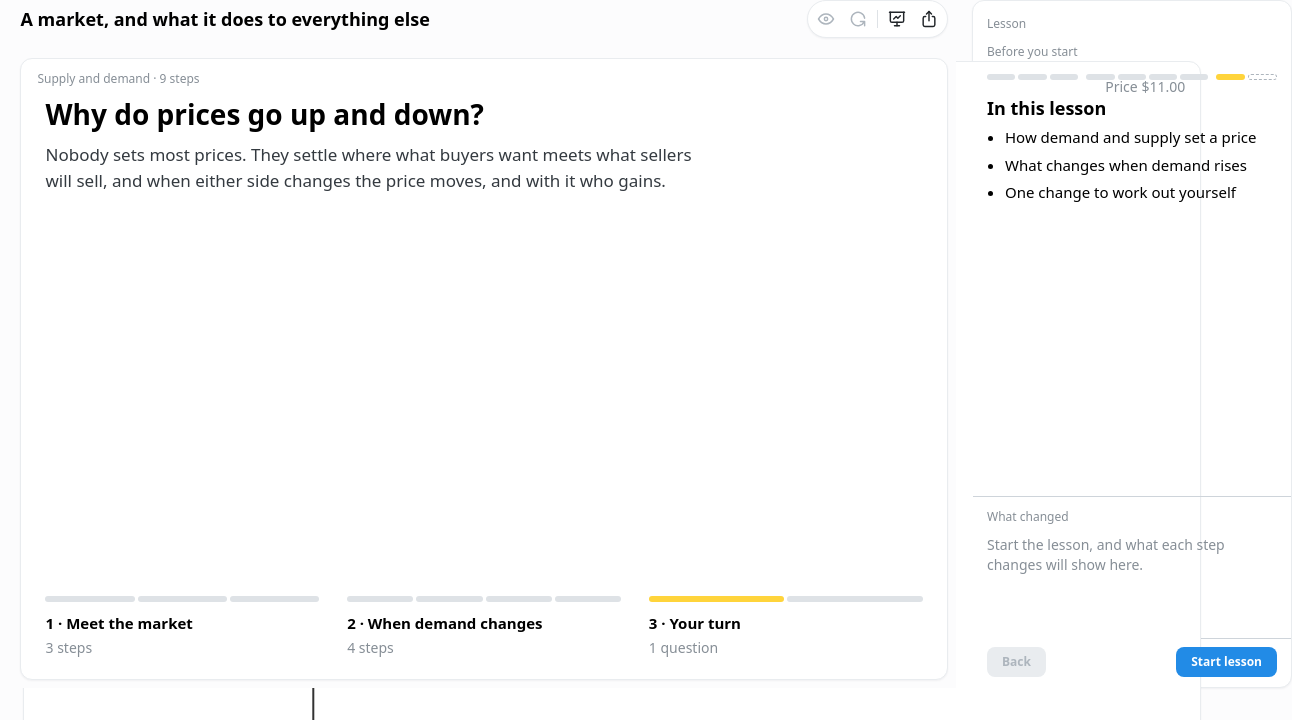
Scenario: the keyboard answers the question › commits from the control itself
Click the button named "Step 8 of 9: Incomes rise again": (1231, 77) [1216, 67, 1245, 87]
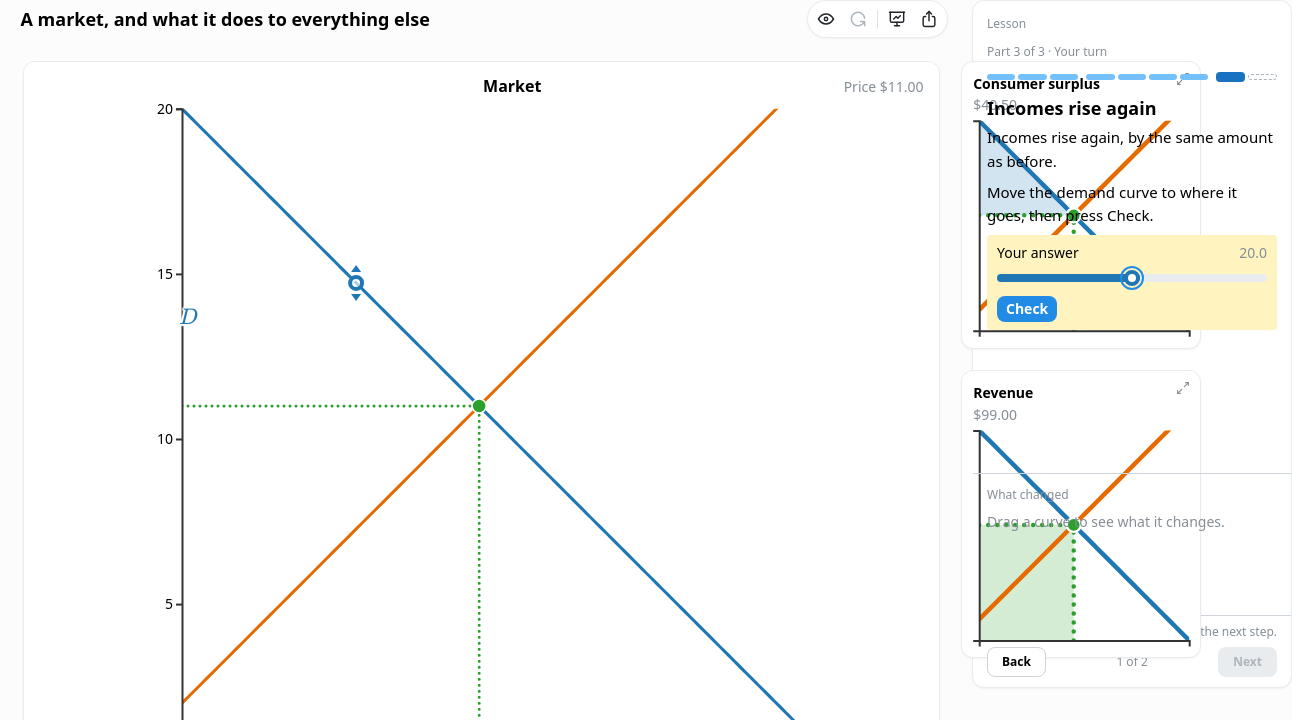
Press End in the slider named "Your answer", box [1124, 270, 1140, 286]
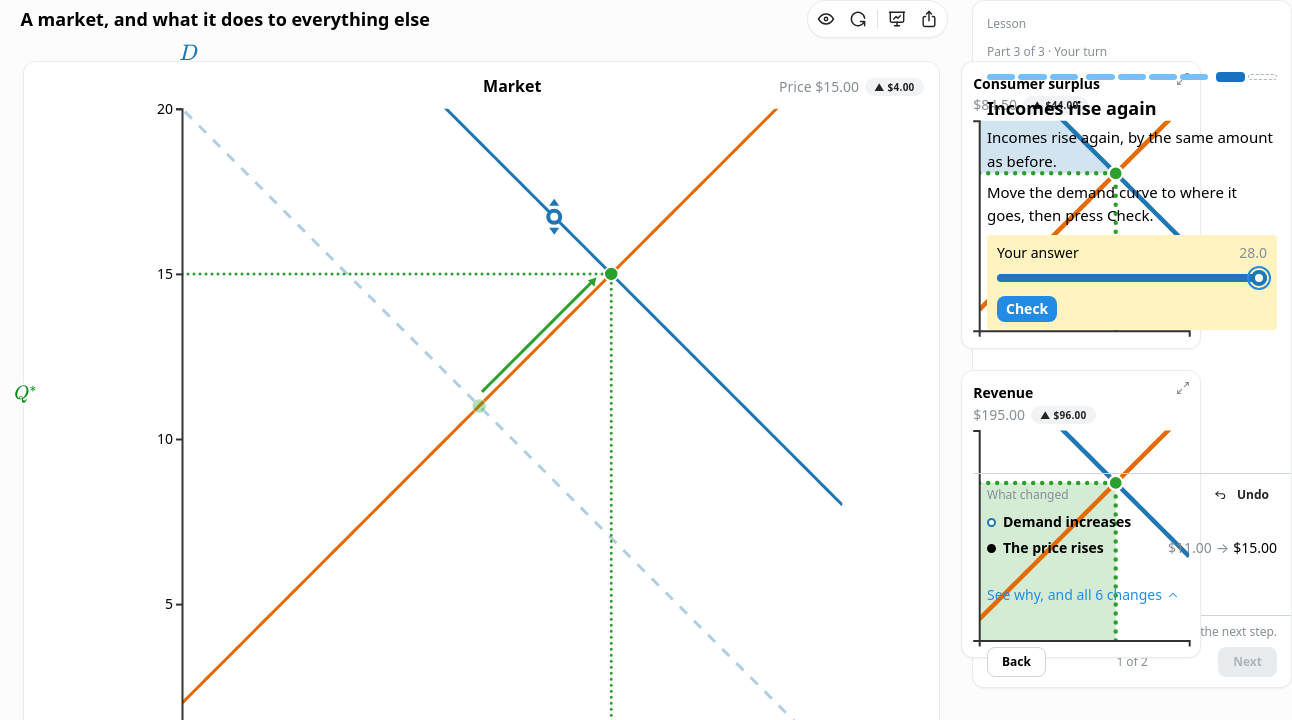
Press Enter in the slider named "Your answer", box [1251, 270, 1267, 286]
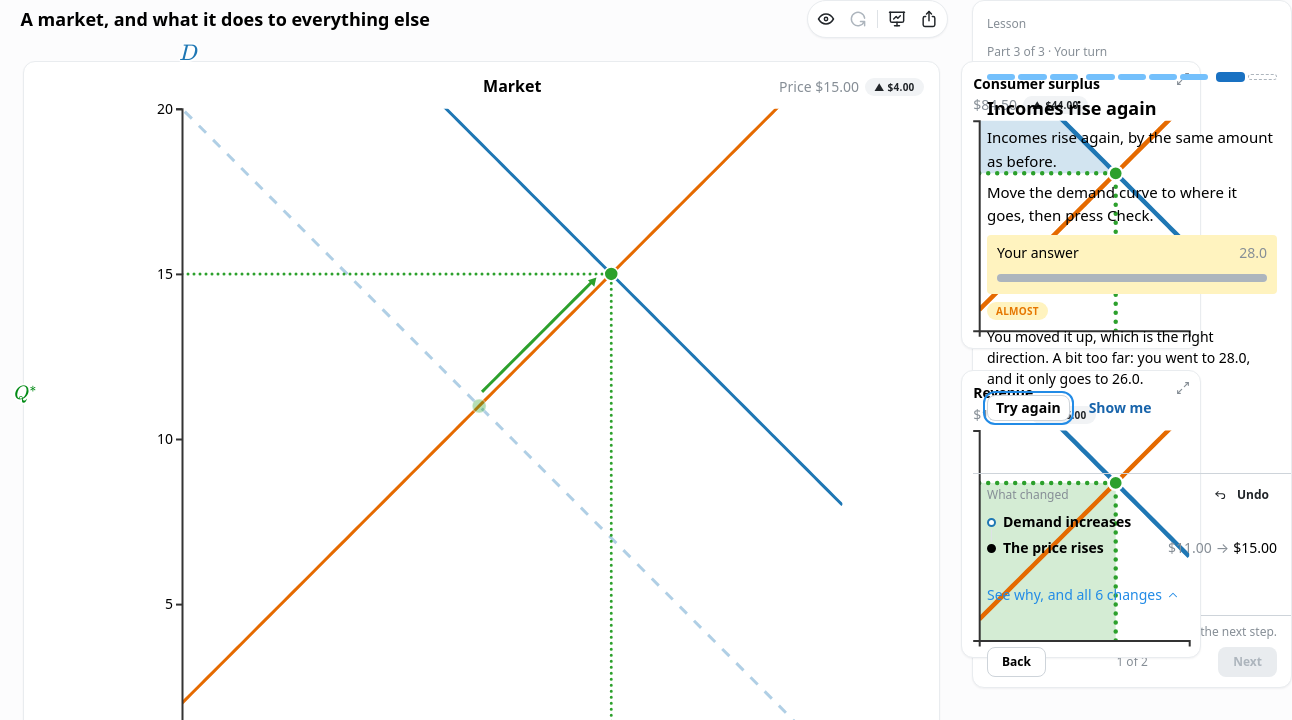
Expected: the message shows "the right direction", [987, 327, 1250, 388]
